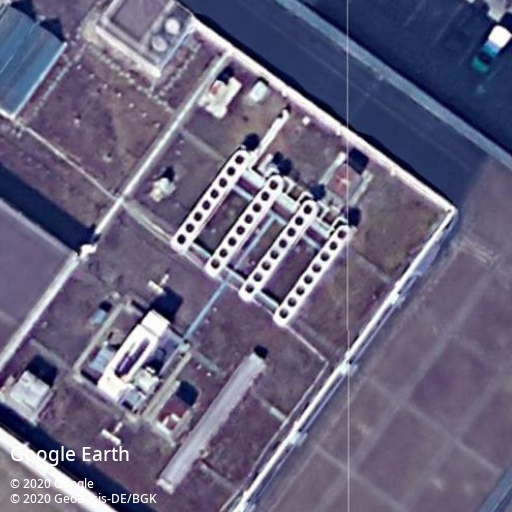Chiller: (170, 149, 252, 253), (203, 172, 285, 276), (238, 198, 320, 302), (272, 223, 354, 327)
